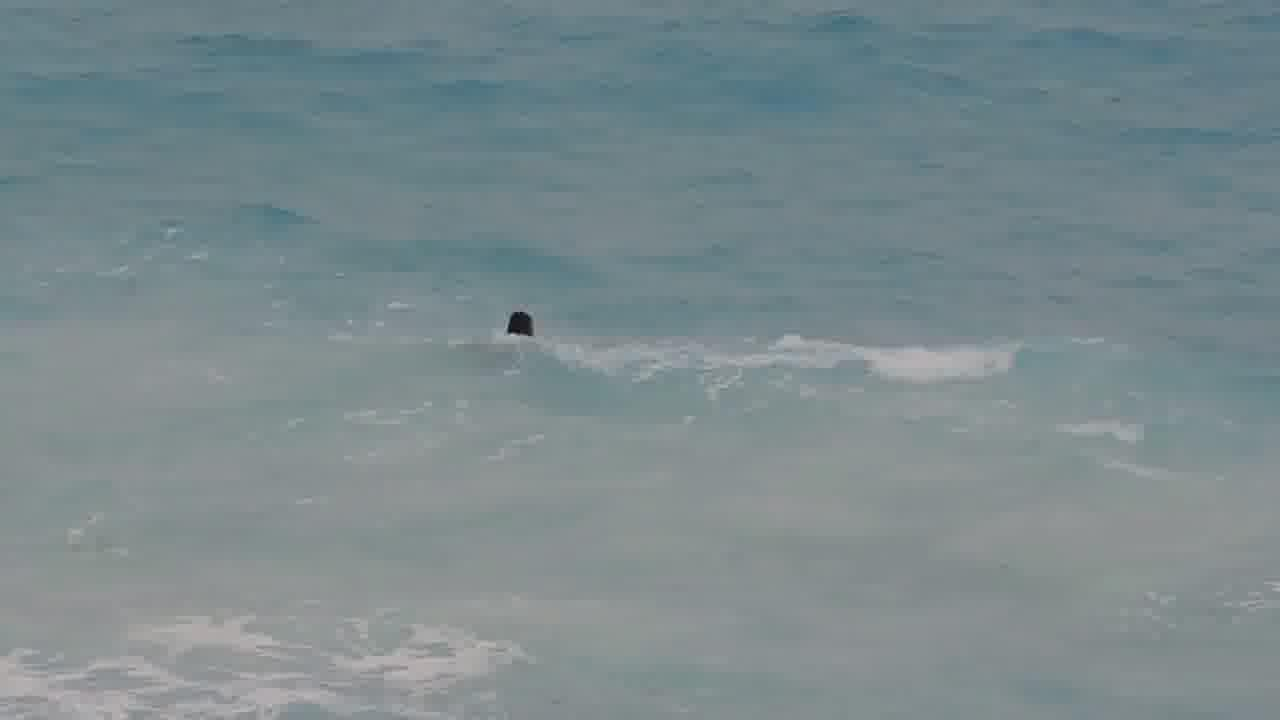swimmer: (494, 305, 545, 346)
